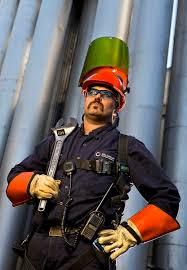Person_wearing_helmet: (73, 35, 132, 98)
